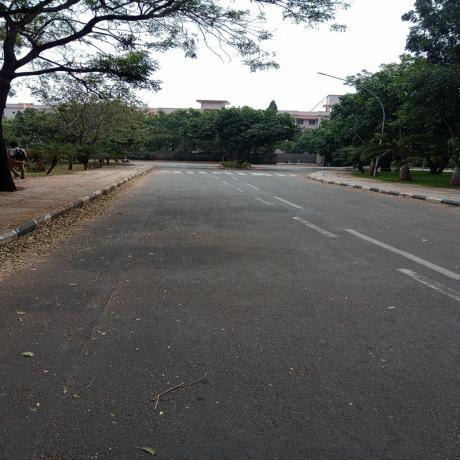Speed Bump: (149, 168, 306, 176)
